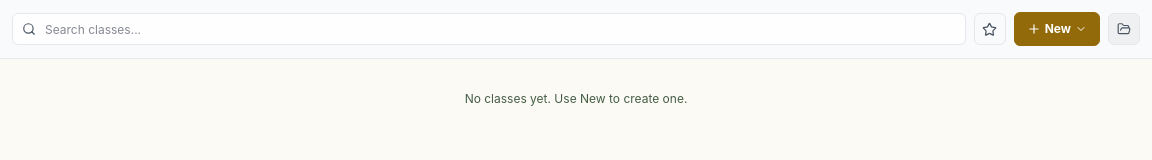
Test: LibraryList › hides the new-folder action for the flat classes section
This screenshot has width=1152, height=160.
Click the button with test id "library-new".
click(1057, 29)  # box [1014,12,1100,46]
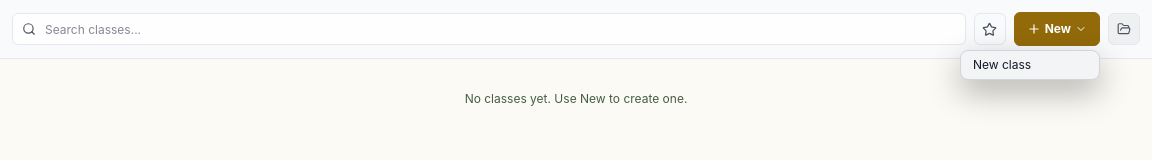
Expected: the menu item with test id "library-new-item" is shown, [961,51,1099,79]
